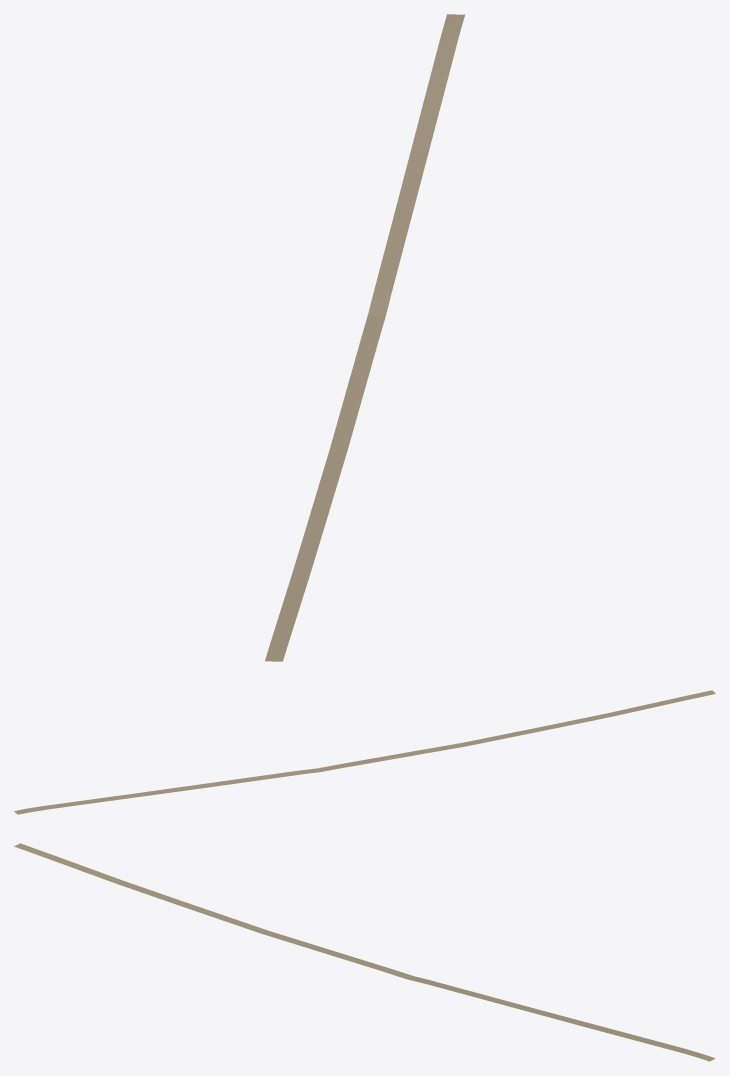
File: farm_-41_-42_track.glb
3 renders of one model, top to bottom at view 1: azimuth 30°, elevation 25°; view 2: azimuth 150°, elevation 25°; view 3: azimuth 270°, elevation 25°, orthographic. The views are drawn at different scales.
Visible parts, largest first — view 1: geometry_0; view 2: geometry_0; view 3: geometry_0.
Part boxes in pixels (x1=…): geometry_0: x1=265, y1=14, x2=464, y2=661; geometry_0: x1=14, y1=690, x2=715, y2=814; geometry_0: x1=14, y1=843, x2=715, y2=1061.
Size of the model in its own units: 167 by 5.11 by 221.
